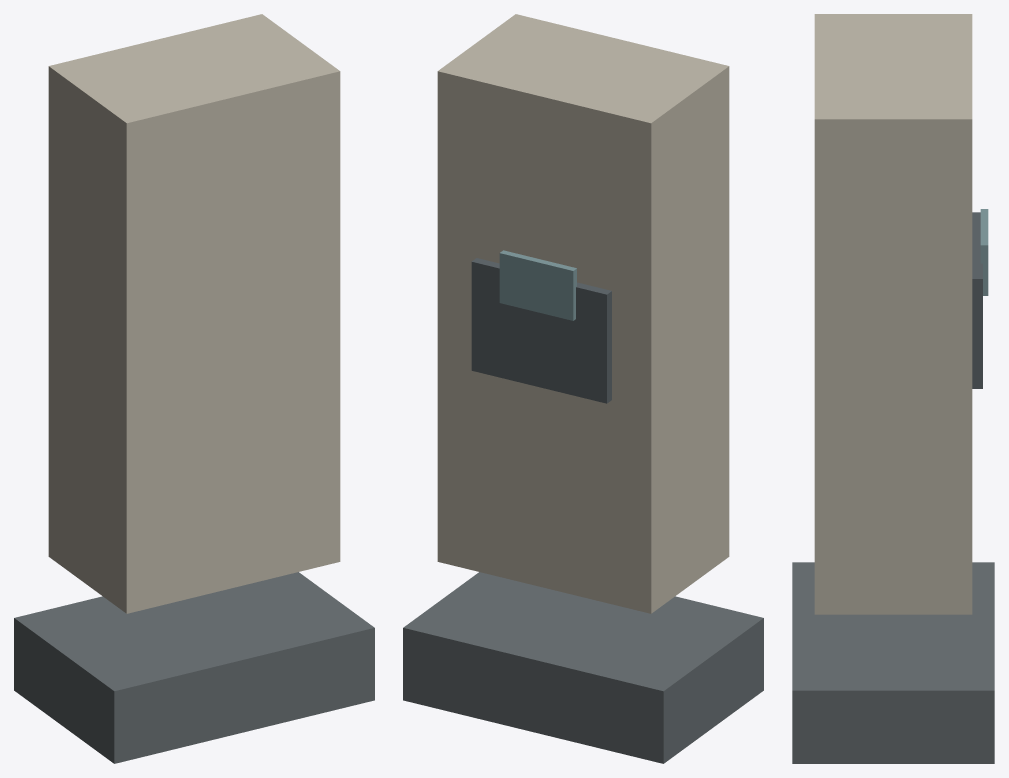
File: iz3_military_floodlight_01.glb
The picture shows the model from 3 angles, left to right: view 1: azimuth 30°, elevation 25°; view 2: azimuth 150°, elevation 25°; view 3: azimuth 270°, elevation 25°; orthographic projection.
Parts seen in each view (by area): view 1: cabinet, base; view 2: cabinet, base, panel, display; view 3: cabinet, base, panel, display.
Boxes of the visible parts, x1,y1,x2,y2 form: cabinet: [48, 14, 340, 613]; base: [14, 572, 374, 763]; cabinet: [437, 14, 729, 613]; base: [403, 572, 763, 763]; panel: [471, 258, 611, 403]; display: [499, 250, 576, 320]; cabinet: [814, 14, 972, 614]; base: [792, 562, 994, 763]; panel: [972, 212, 982, 388]; display: [980, 209, 988, 295].
Size of the model in its own units: 1.2 by 2.76 by 0.8.
